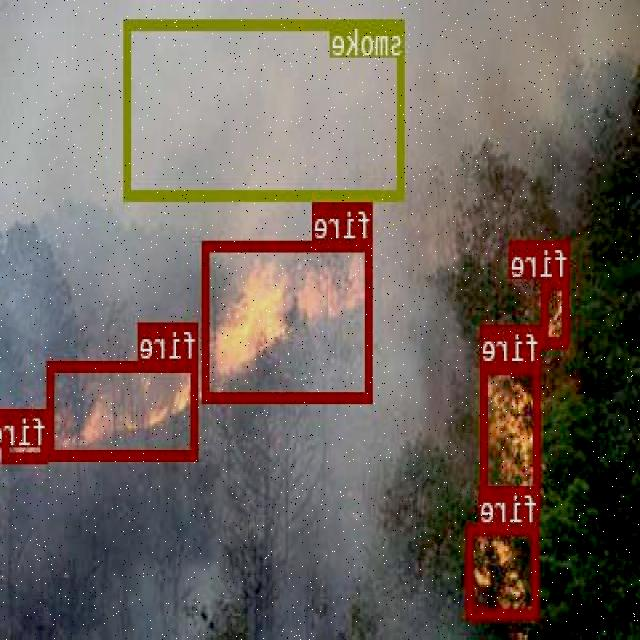fire: (204, 240, 373, 400), (48, 359, 199, 457), (482, 363, 542, 503), (468, 524, 540, 617), (4, 408, 48, 461), (544, 277, 570, 345)
smoke: (125, 19, 406, 198)
